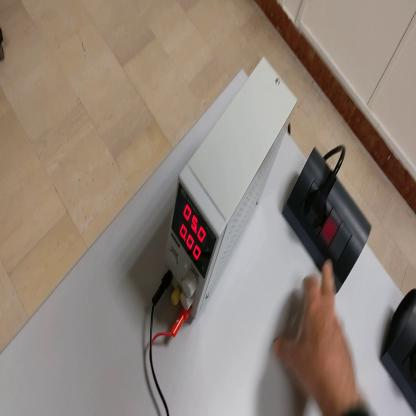hand: (276, 262, 359, 403)
power supply: (162, 53, 295, 322)
socket: (284, 144, 374, 292), (381, 289, 416, 412)
